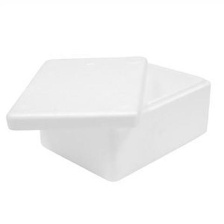foam_box: (1, 48, 216, 184)
